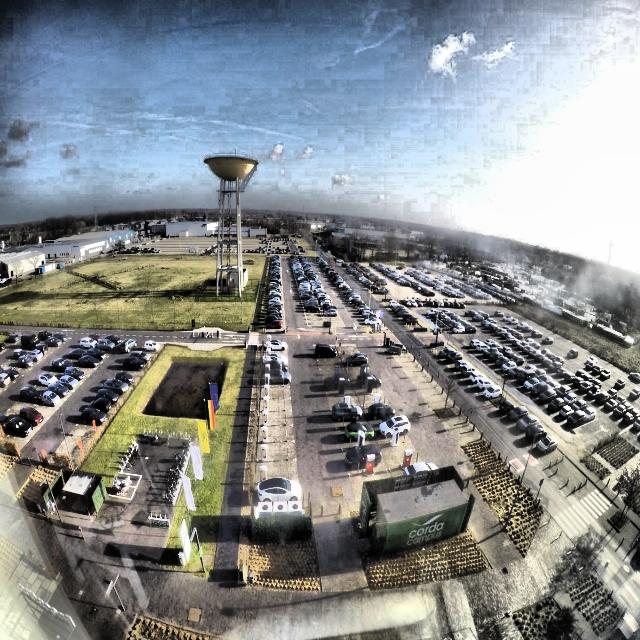cabinet: (259, 501, 301, 512)
car: (255, 476, 302, 500), (262, 401, 294, 419), (263, 369, 291, 384), (262, 360, 287, 372), (260, 352, 286, 362), (264, 339, 287, 348)
parking: (257, 460, 297, 482), (256, 483, 298, 501), (258, 442, 296, 459), (258, 424, 294, 441), (259, 409, 293, 423), (259, 396, 291, 408), (262, 364, 288, 376), (261, 376, 288, 386), (264, 352, 287, 363), (260, 386, 289, 394), (264, 344, 287, 352)
